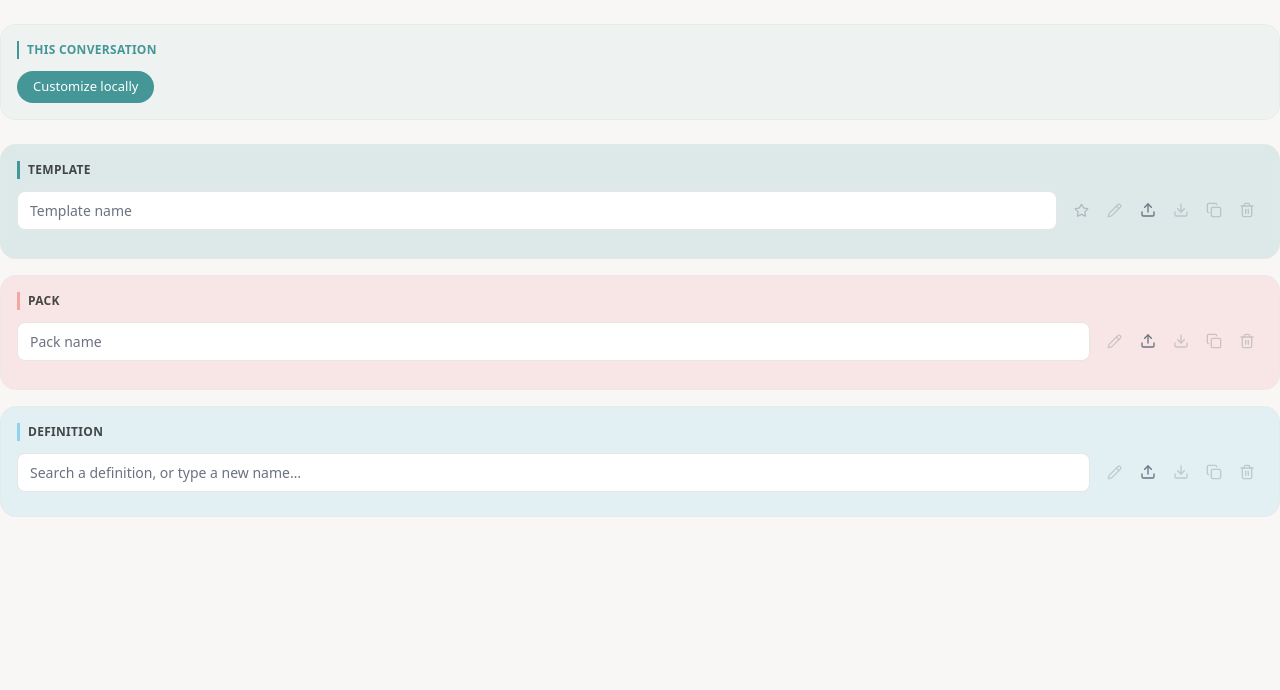
BookView scopes › drills into a definition via the navigator when customized
This screenshot has width=1280, height=690.
Click the button with test id "customize-locally" at [86, 87], box [17,71,154,102]
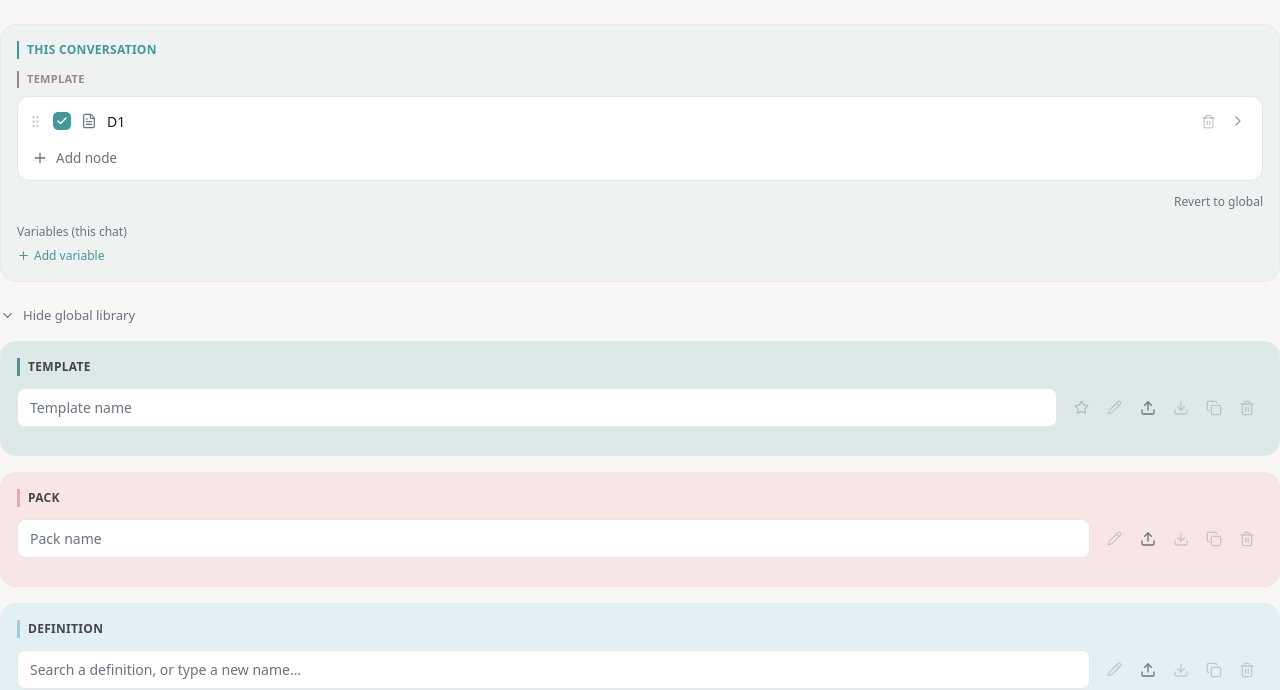
Click the button with test id "node-row-n1" at [36, 121], box [28,111,1248,131]
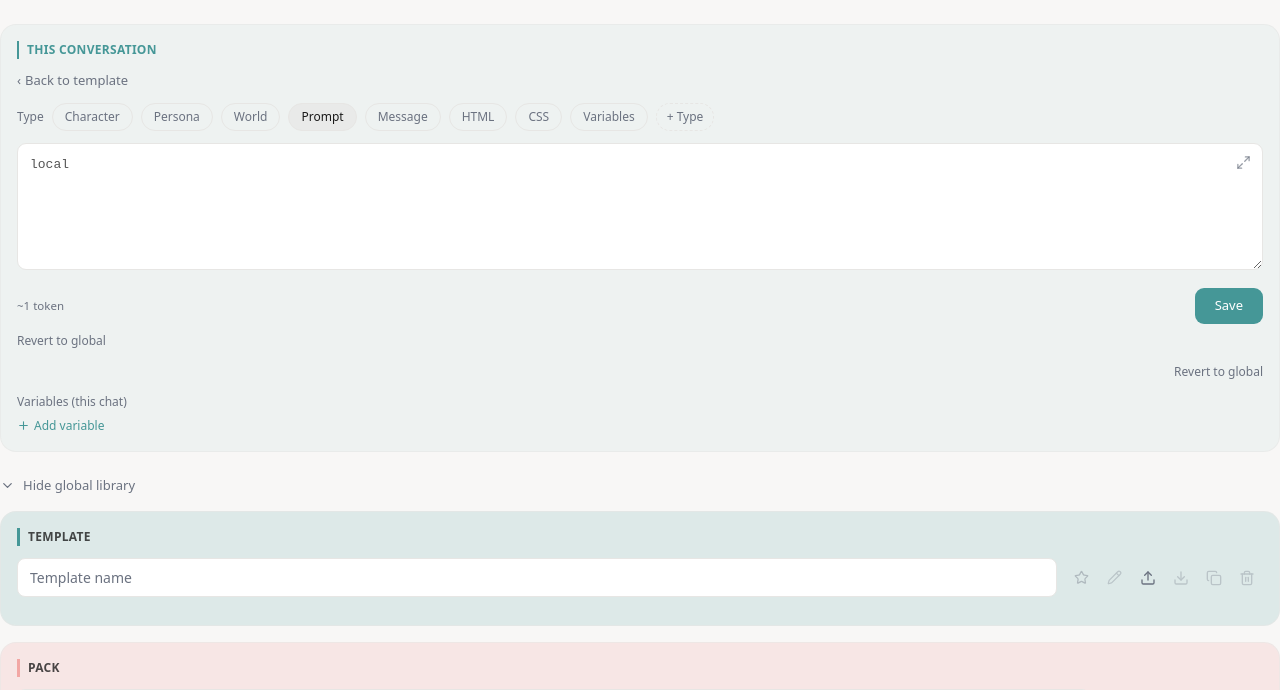
Now the element with test id "nav-level-definition" is shown, box [17,102,1263,351]
